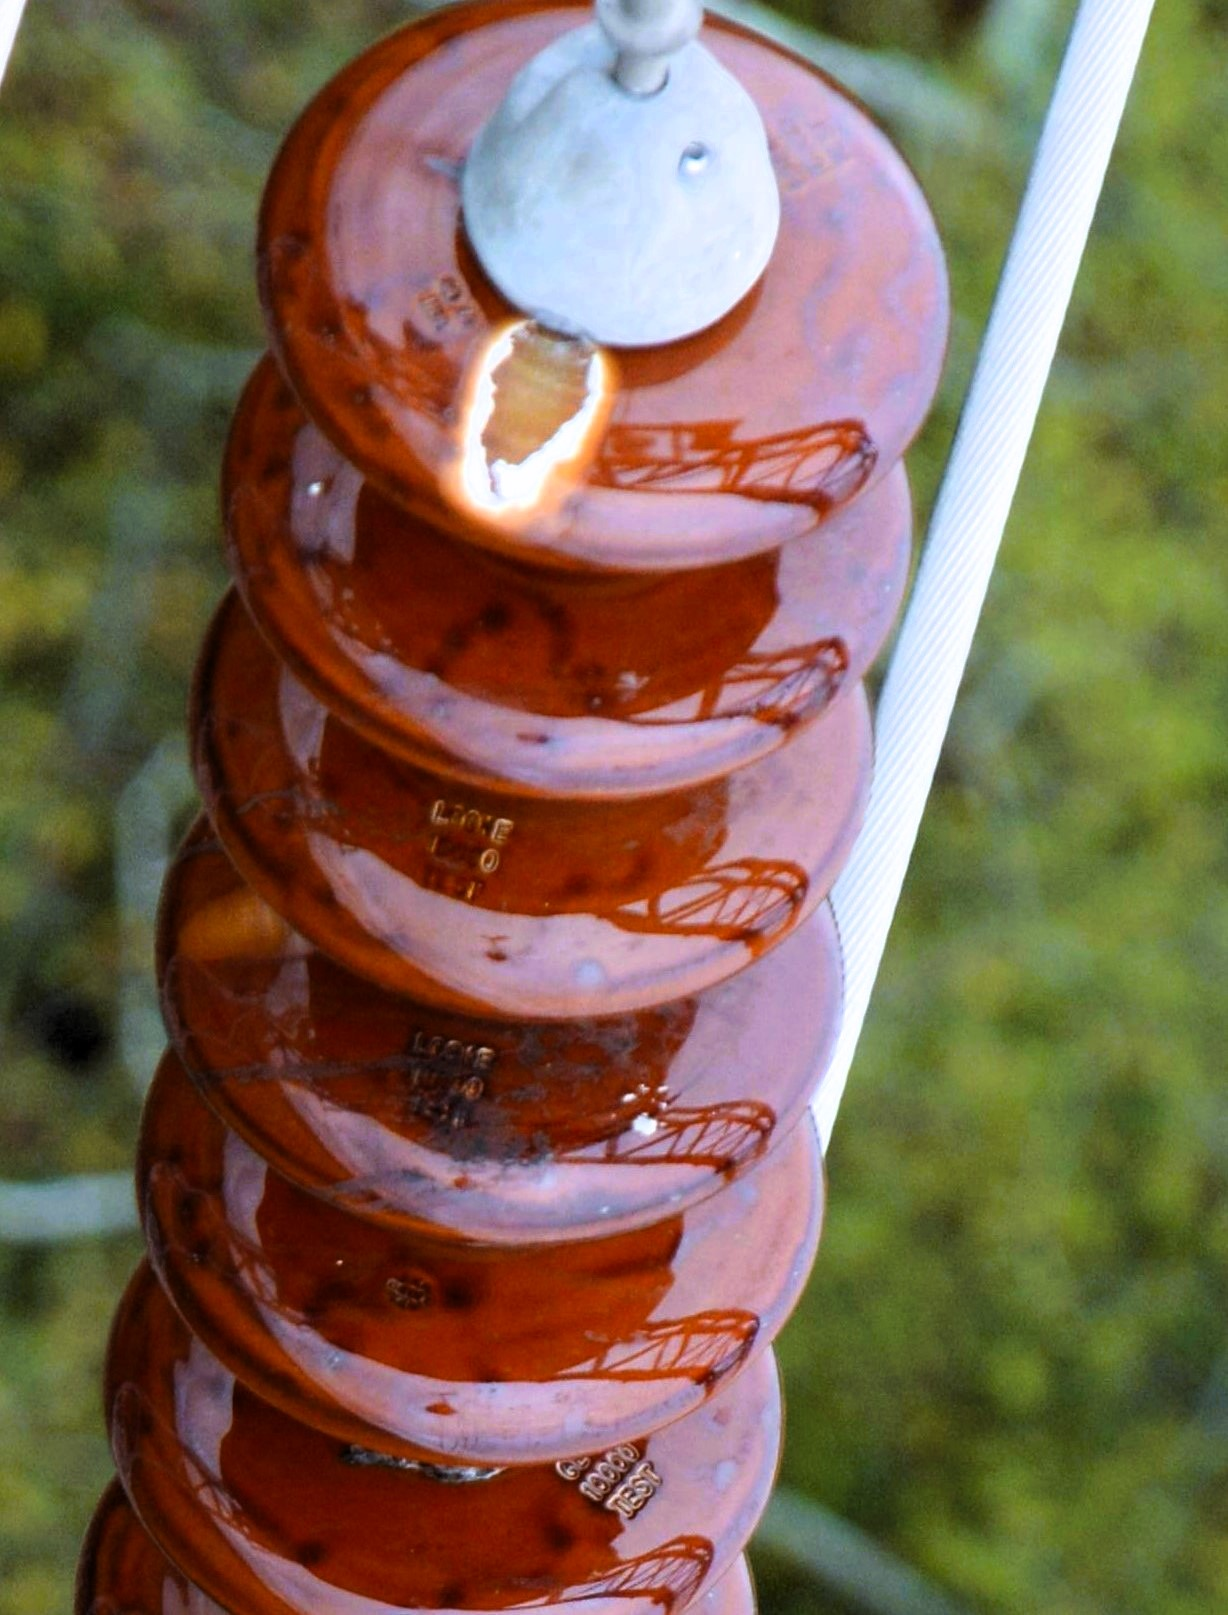Insulator flashover: (248, 15, 964, 588)
